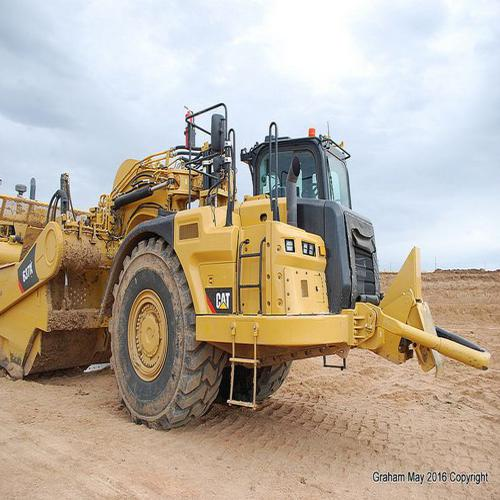con_eq: (1, 108, 492, 430)
